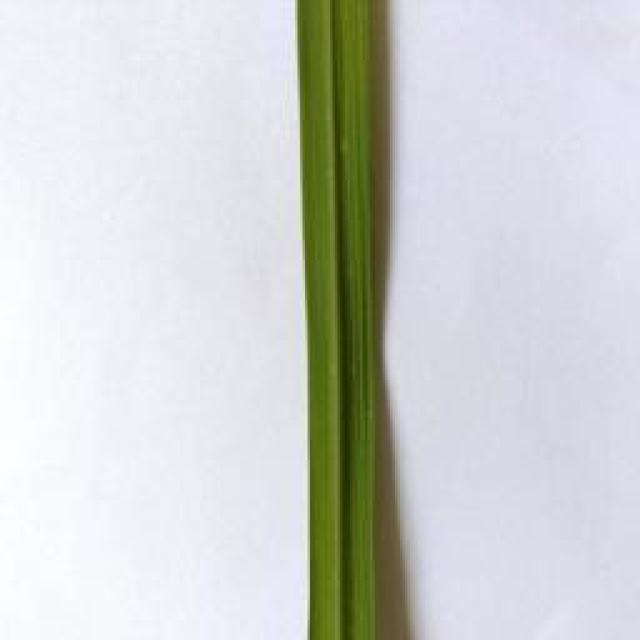Healthy-Plant: (291, 0, 393, 640)
